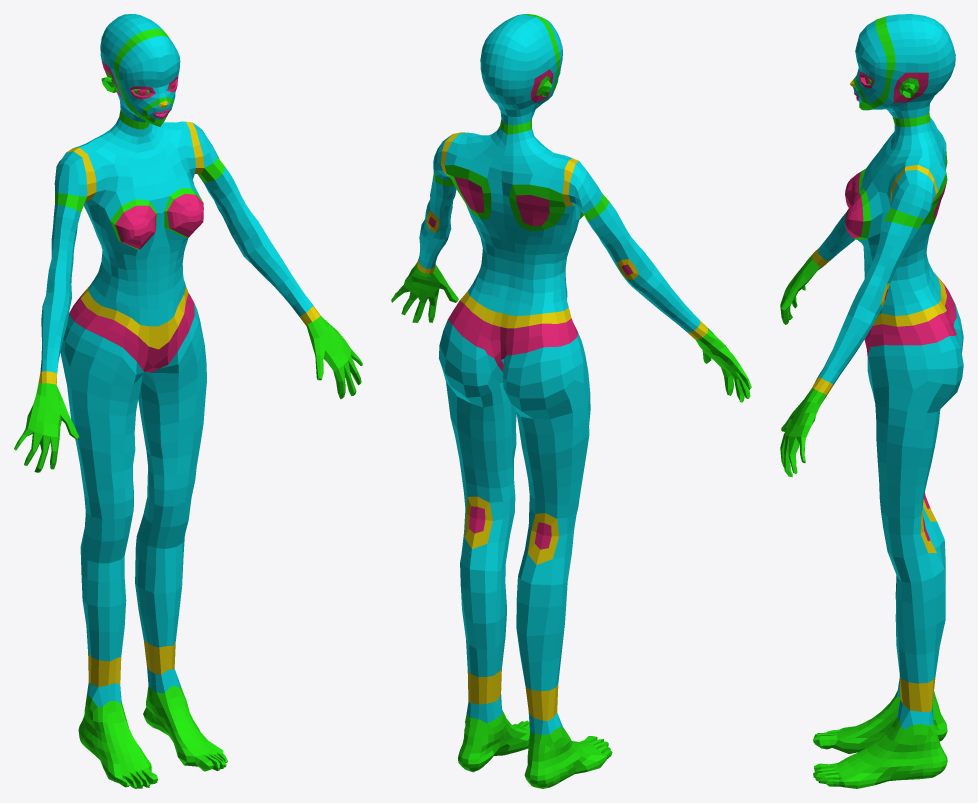
Rendered from BaseModel.glb.
3 renders of one model, left to right at view 1: azimuth 30°, elevation 25°; view 2: azimuth 150°, elevation 25°; view 3: azimuth 270°, elevation 25°, orthographic. The views are drawn at different scales.
Visible parts, largest first — view 1: Literal Main; view 2: Literal Main; view 3: Literal Main.
Part boxes in pixels (<box>): Literal Main: <box>14,14,362,788</box>; Literal Main: <box>391,14,751,788</box>; Literal Main: <box>780,14,963,788</box>.
Size of the model in its own units: 2.33 by 4.66 by 1.04.
